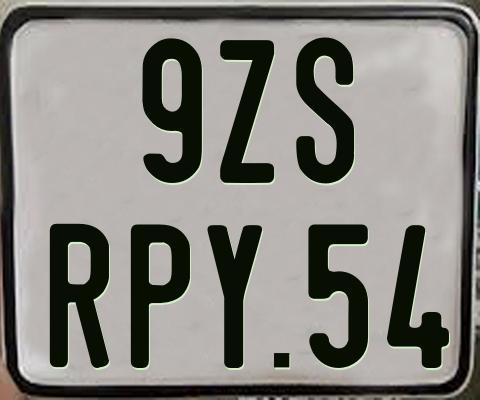4: (384, 222, 450, 368)
5: (305, 223, 369, 372)
9: (142, 36, 208, 185)
P: (131, 224, 190, 369)
R: (47, 223, 112, 370)
S: (295, 36, 353, 186)
Y: (204, 222, 265, 366)
Z: (220, 39, 276, 183)
